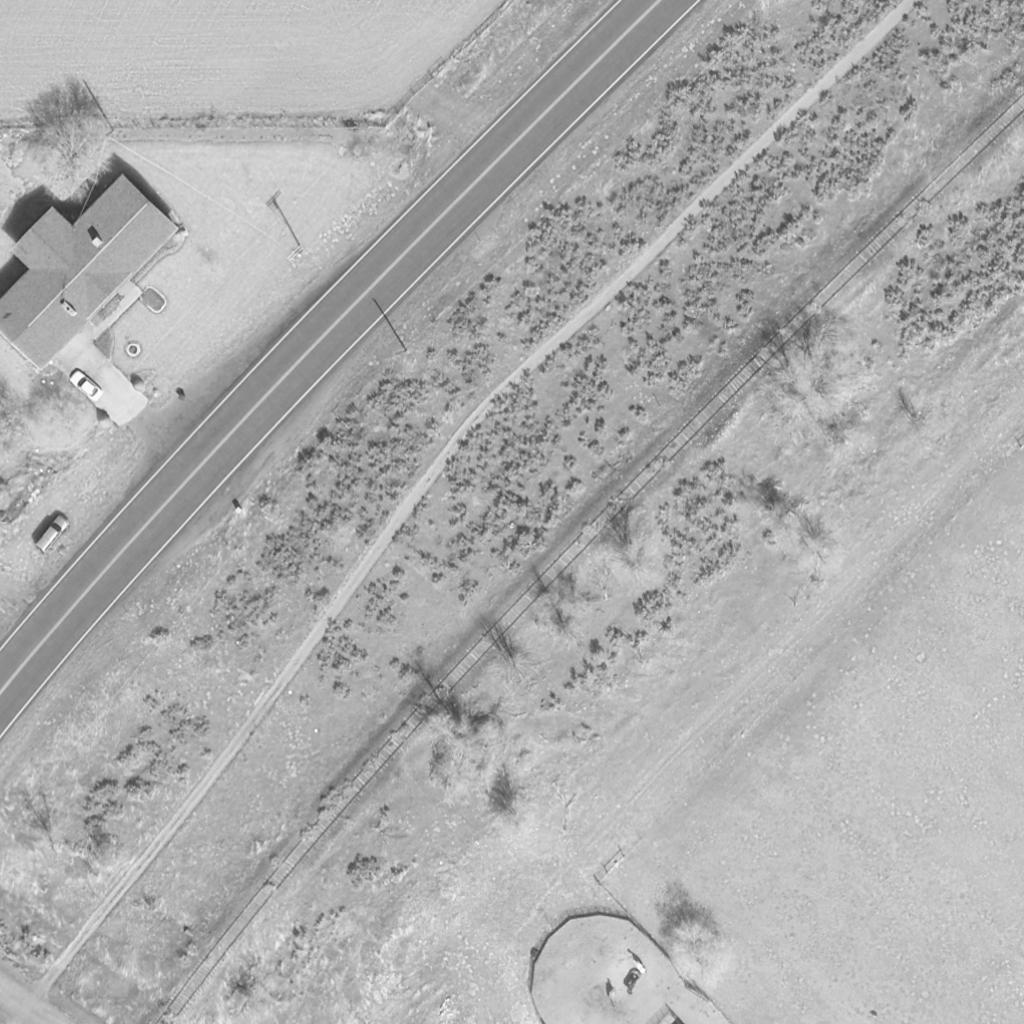vehicle: (35, 517, 71, 555), (70, 369, 104, 405)
